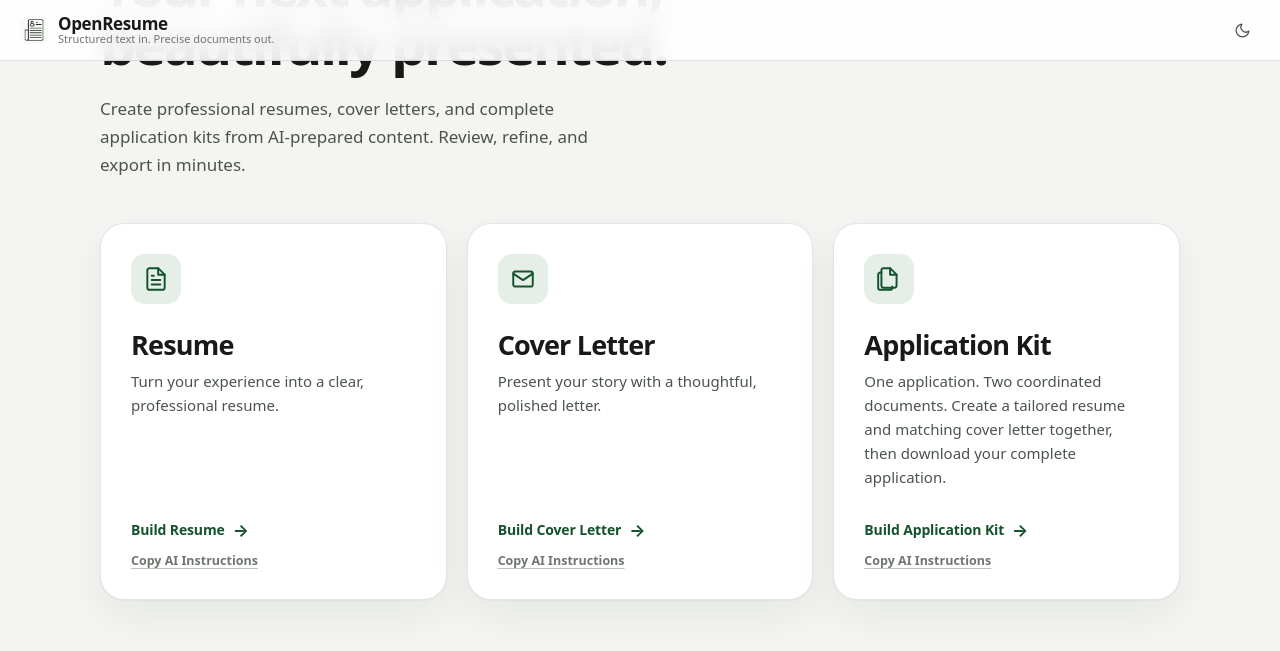
Test: cover letter workflow › shows cover letter formatting controls
(page scrolled)
Click the button "Build Cover Letter →": click(572, 530) [498,519,645,540]
(page scrolled)
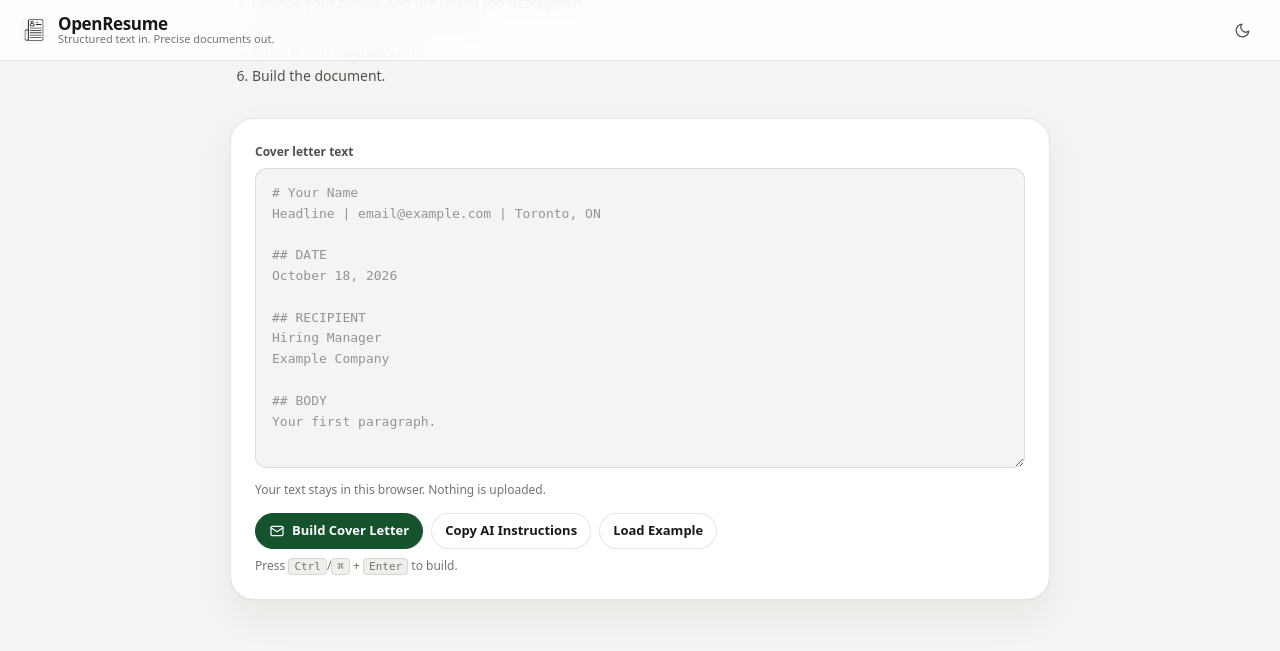
Replace the text in the text box labelled "Cover letter text" with "# Jordan Avery Product-minded software generalist | jordan.avery@example.com | +1 555 0142 | Toronto, ON | linkedin.com/in/jordanavery ## DATE October 18, 2026 ## RECIPIENT Morgan Lee Hiring Manager B": (640, 318) [255,168,1025,468]
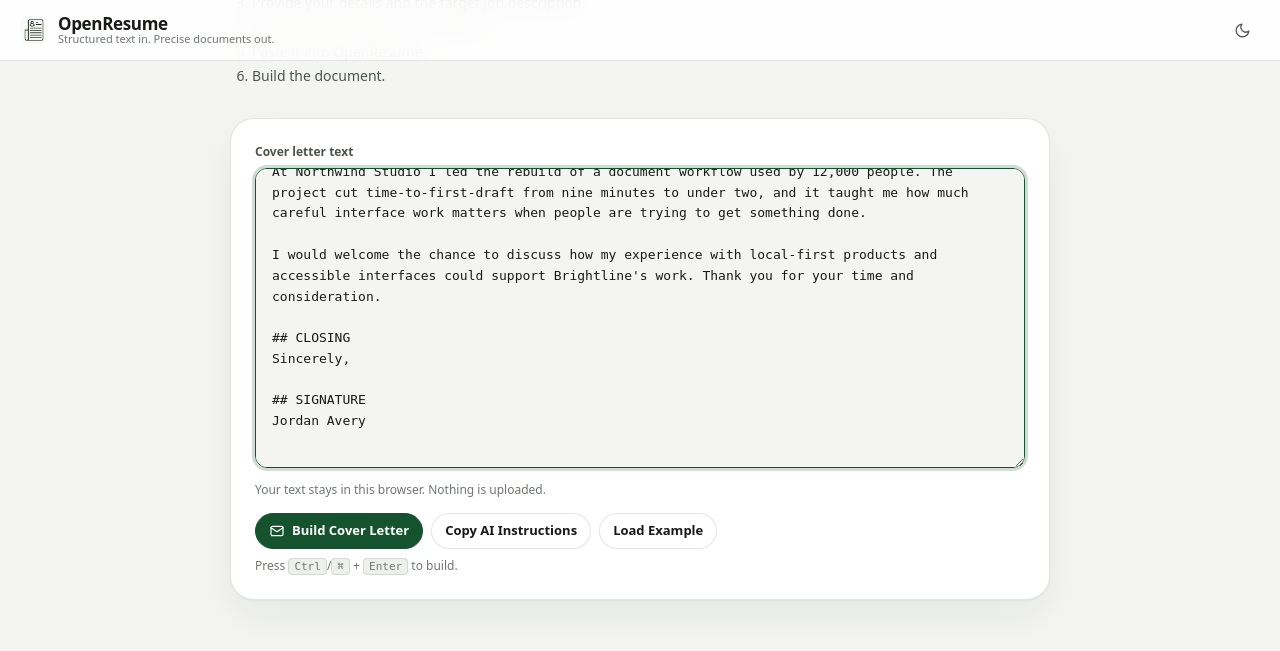
Click the button "Build Cover Letter": click(339, 531) [255,513,423,549]
(page scrolled)
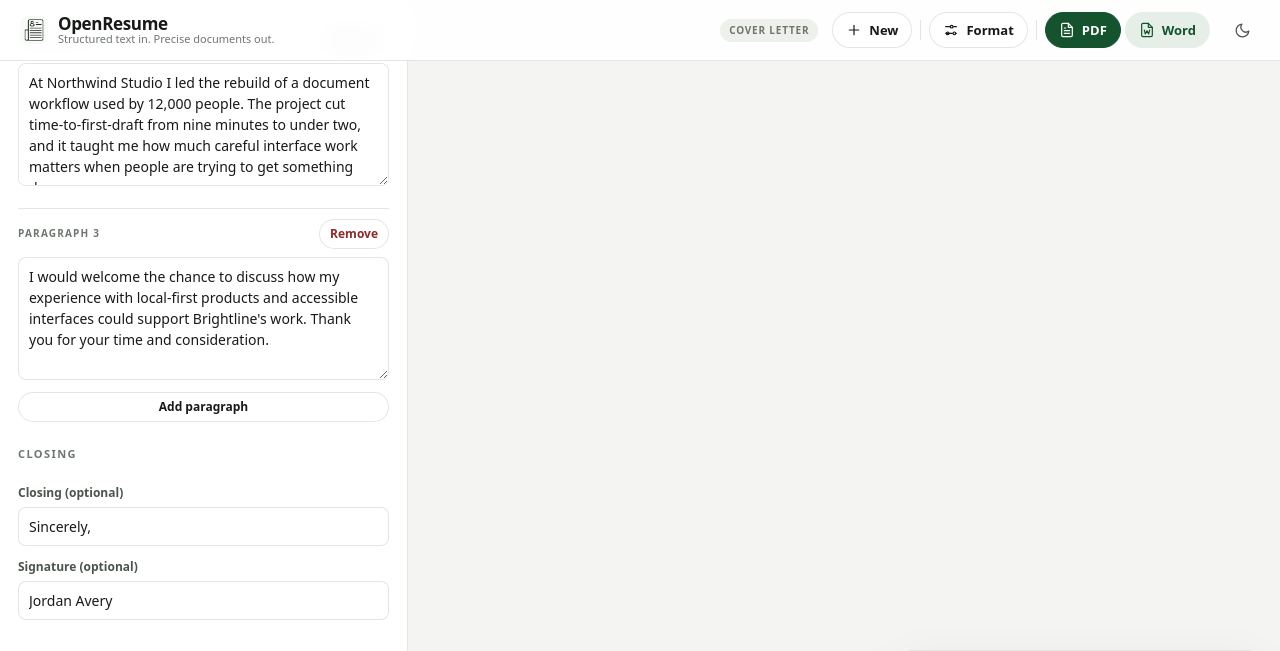
Click the button with aria-label "Formatting": click(979, 30) [930,12,1028,48]
(page scrolled)
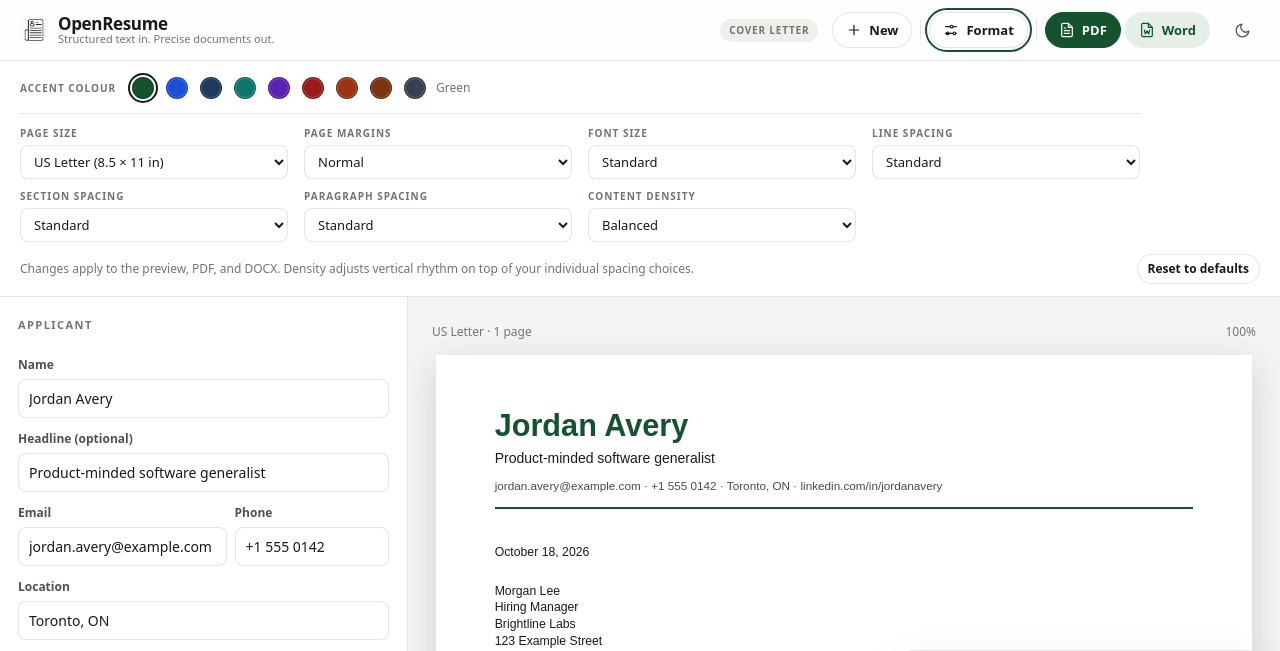
Check: the dropdown labelled "Paragraph spacing" is shown, box [304,208,572,242]
Check: the text "Accent Colour" is shown, box [20,80,116,96]
Check: the radio button named "Green" is checked, box [132,77,154,99]
